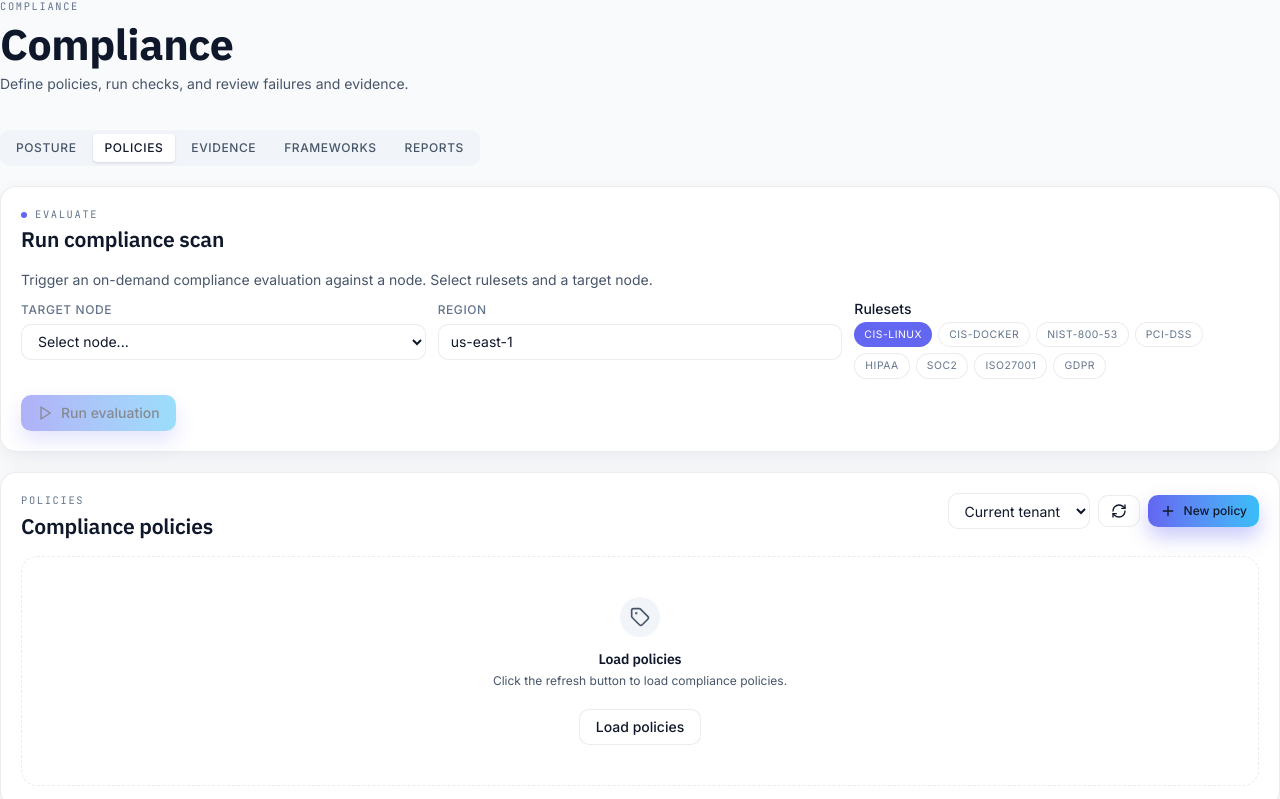
Test: Compliance policies › surfaces version load failures instead of showing a false empty state
Click the button "Load policies".
click(640, 727)  # box [579,709,701,745]
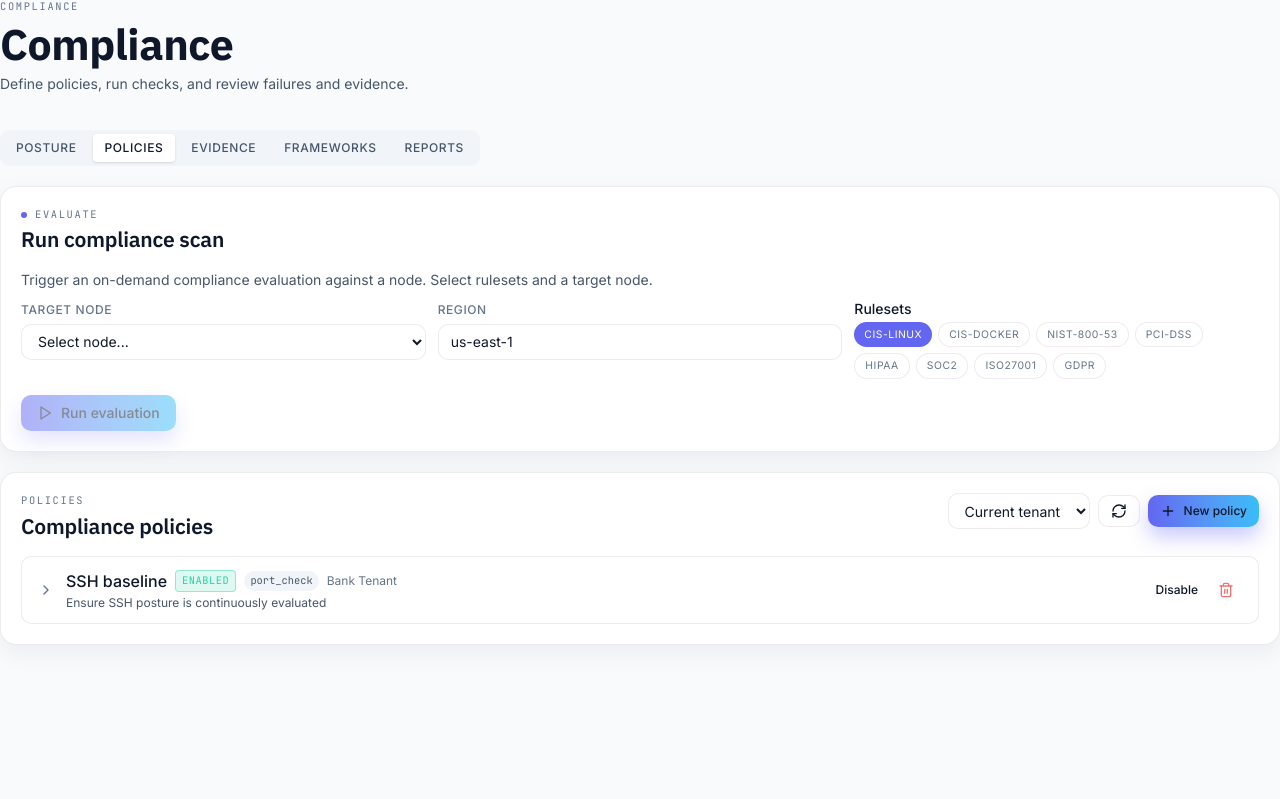
Click the button named "expand compliance policy ssh baseline".
click(46, 590)  # box [38,582,54,598]
(page scrolled)
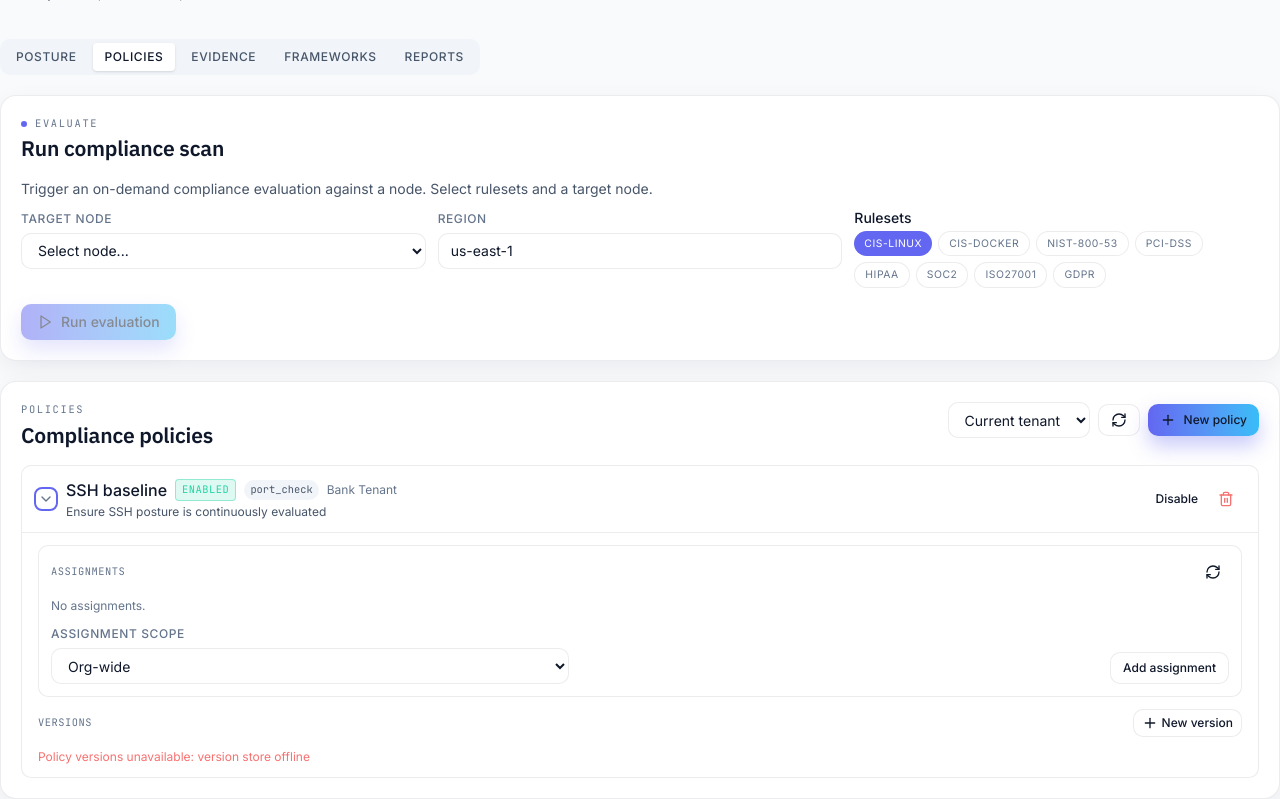
Check: the text "Policy versions unavailable: version store offline" is shown, box [38,749,310,764]
